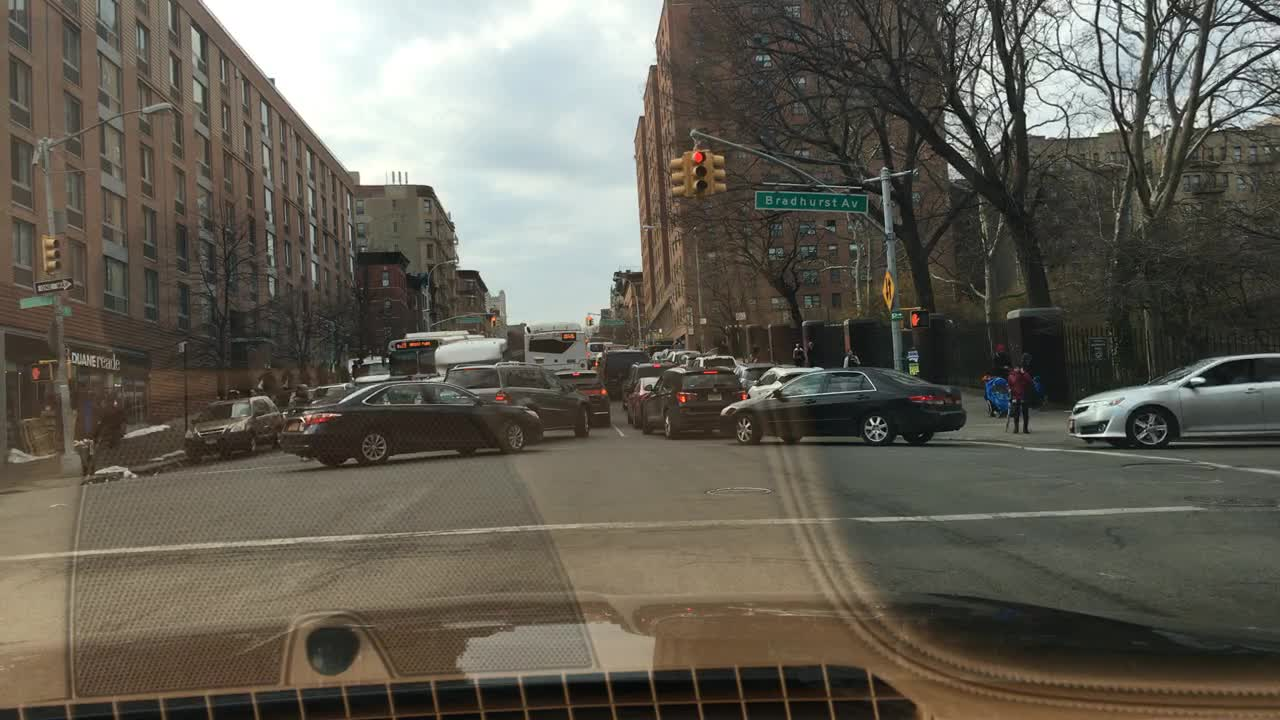bus: (387, 331, 476, 377), (525, 321, 590, 373), (434, 334, 505, 378)
car: (274, 382, 543, 465), (1069, 352, 1278, 449), (719, 369, 965, 446), (445, 362, 590, 437), (638, 366, 747, 436), (181, 397, 286, 460), (746, 367, 825, 398), (599, 350, 653, 395), (624, 362, 675, 406), (625, 378, 661, 425), (735, 364, 775, 394), (693, 355, 738, 373), (351, 375, 390, 390), (658, 348, 702, 361)
motor: (984, 373, 1025, 415)
person: (556, 368, 608, 426), (1007, 365, 1031, 433), (291, 386, 311, 461), (587, 343, 614, 367), (258, 367, 274, 398), (792, 345, 804, 368), (845, 347, 858, 367), (282, 369, 293, 390), (804, 344, 814, 364), (328, 359, 336, 381), (341, 365, 350, 382), (352, 361, 360, 376), (753, 343, 758, 362)
traffic light: (670, 153, 693, 196), (708, 154, 724, 194), (693, 149, 707, 194), (43, 235, 58, 270), (909, 309, 928, 326), (31, 364, 50, 380), (586, 315, 592, 326), (491, 314, 495, 325)
traffic sign: (754, 192, 867, 211), (35, 278, 73, 290), (883, 270, 894, 309), (20, 297, 52, 308), (457, 316, 485, 322), (735, 311, 746, 321), (62, 305, 72, 314)
